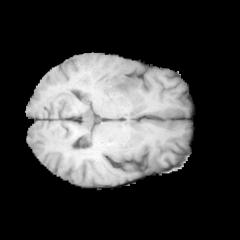glioma: (78, 54, 142, 97)
